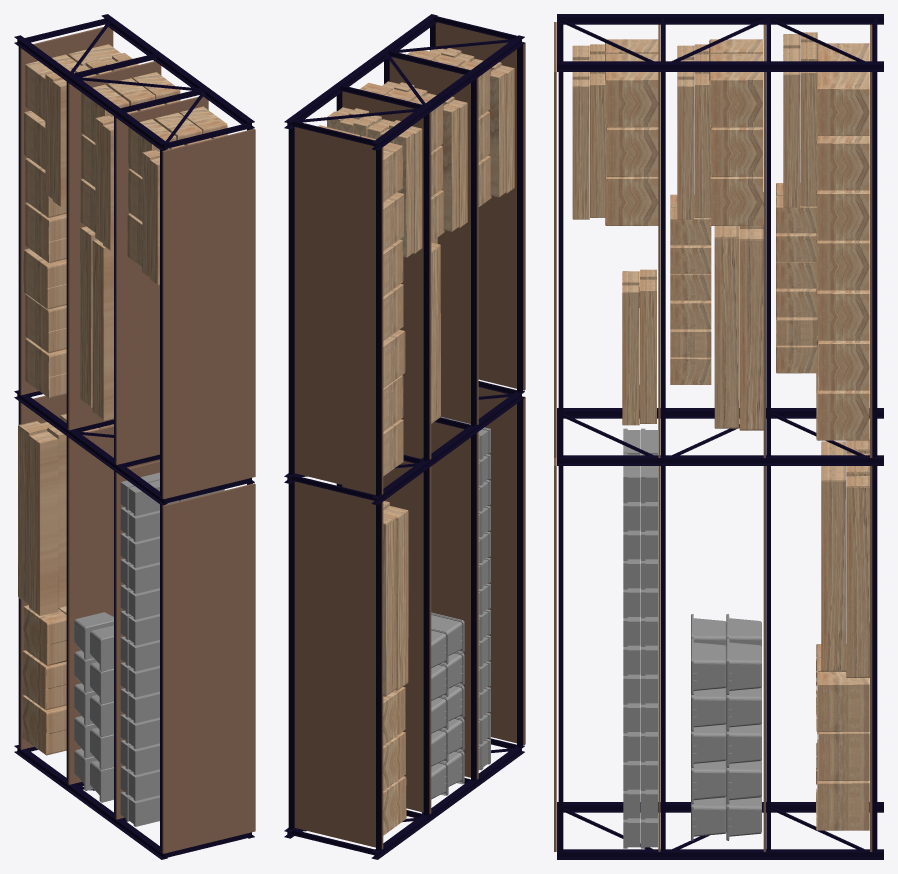
Rendered from warehouse_shelf_type_C.glb.
3 views of the same model, side by side, from view 1: azimuth 30°, elevation 25°; view 2: azimuth 150°, elevation 25°; view 3: azimuth 270°, elevation 25° (orthographic). The views are drawn at different scales.
Parts seen in each view (by area): view 1: 07. lemari.006; view 2: 07. lemari.006; view 3: 07. lemari.006.
Part boxes in pixels (<box>): 07. lemari.006: <box>14,14,255,859</box>; 07. lemari.006: <box>284,14,525,859</box>; 07. lemari.006: <box>554,14,883,859</box>.
Bounding box in the file's own units: 1.23 × 8.73 × 3.28.
Materials: 4 (1 with a texture image).
